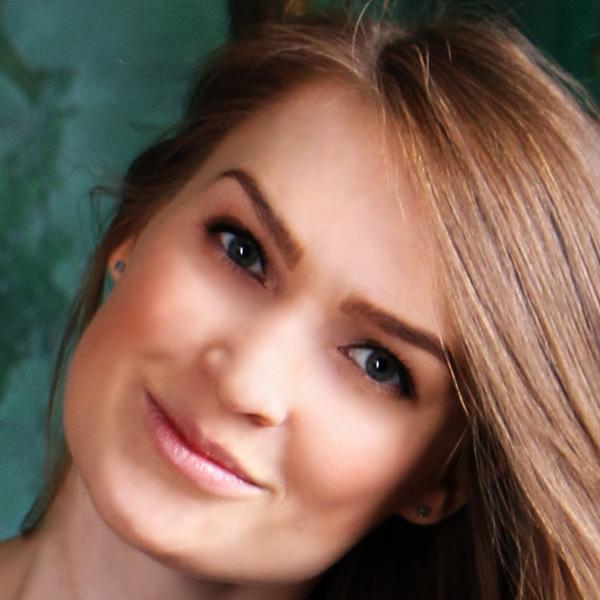Eyes: (332, 330, 421, 408), (199, 206, 275, 294)
